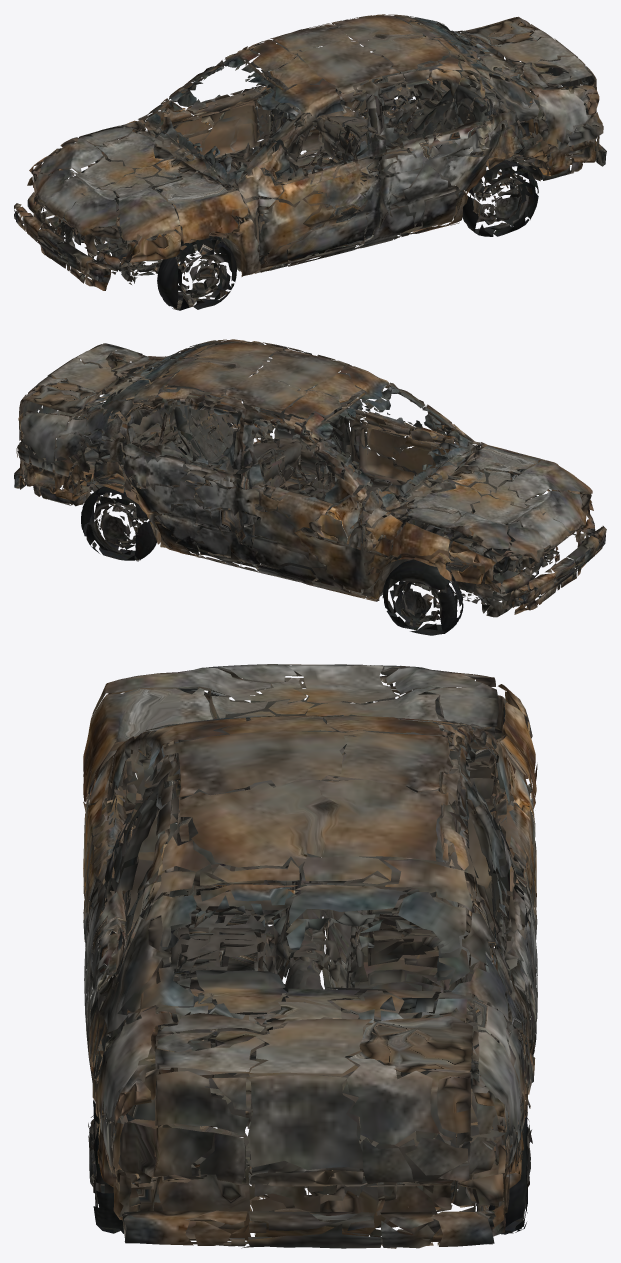
File: wreck.glb
3 views of the same model, one above another, from view 1: azimuth 30°, elevation 25°; view 2: azimuth 150°, elevation 25°; view 3: azimuth 270°, elevation 25° (orthographic). The views are drawn at different scales.
Bounding box in the file's own units: 1.9 × 0.6131 × 0.7264.
Materials: 1 (1 with a texture image).
